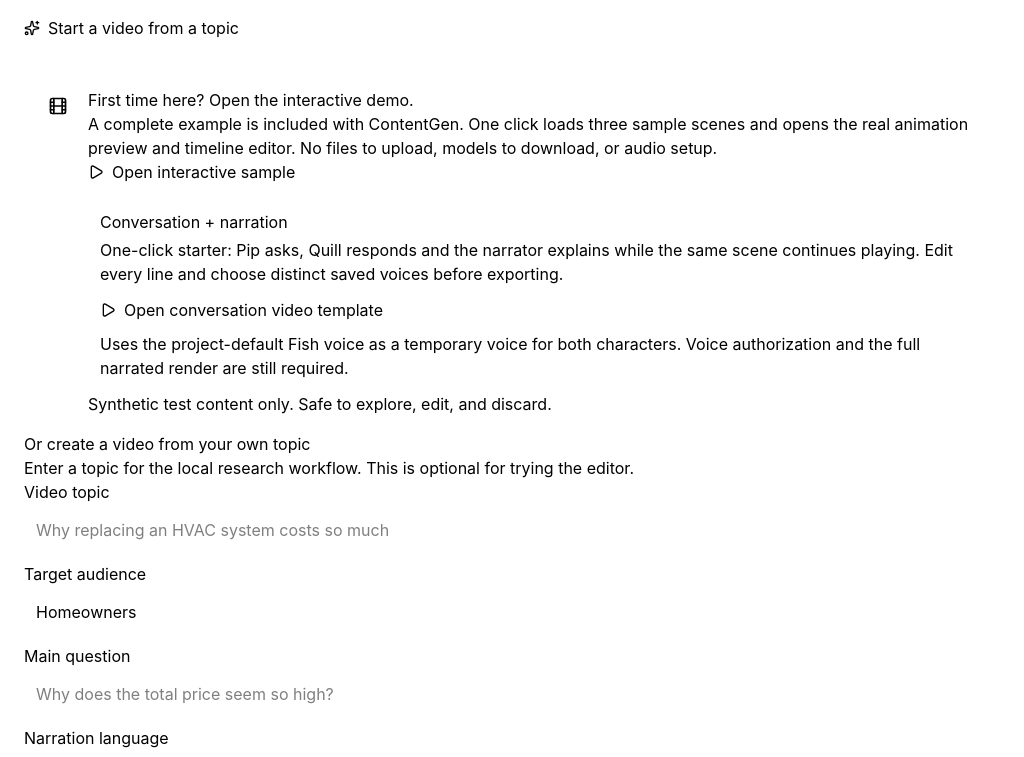
Test: zero-setup sample onboarding › reports a missing/broken sample clearly instead of leaving an empty editor
The width and height of the screenshot is (1024, 757).
Click the button "Open interactive sample" at (192, 172), box [88,160,295,184]
(page scrolled)
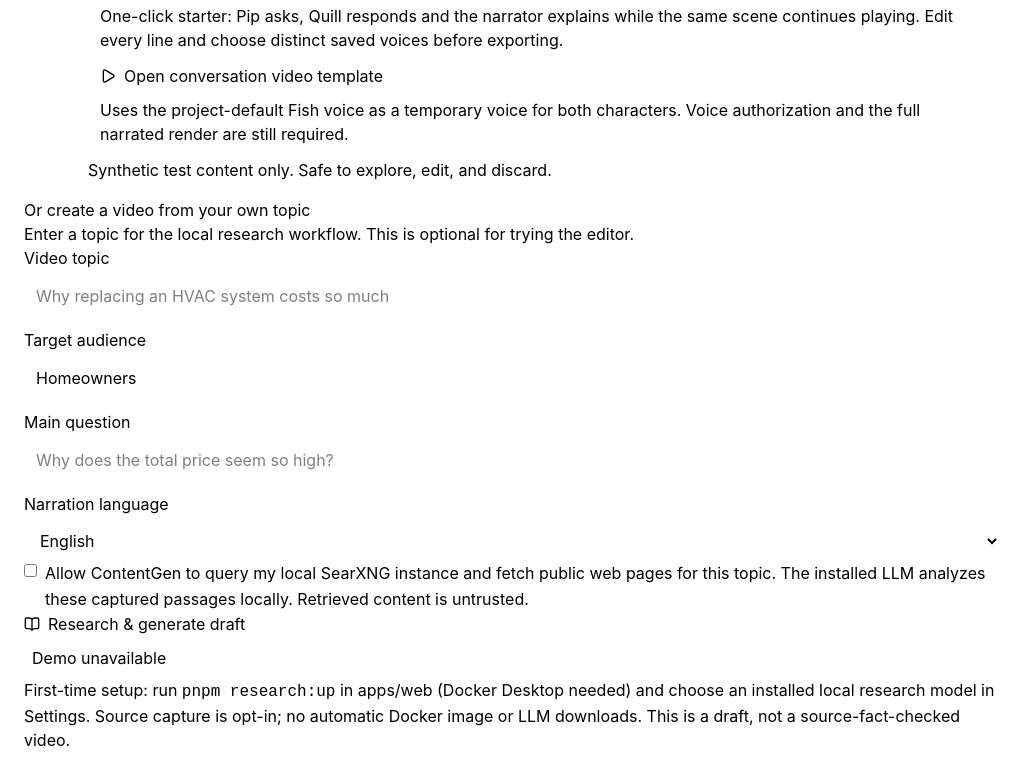
Now the message reads "Demo unavailable", box [32,648,166,668]
